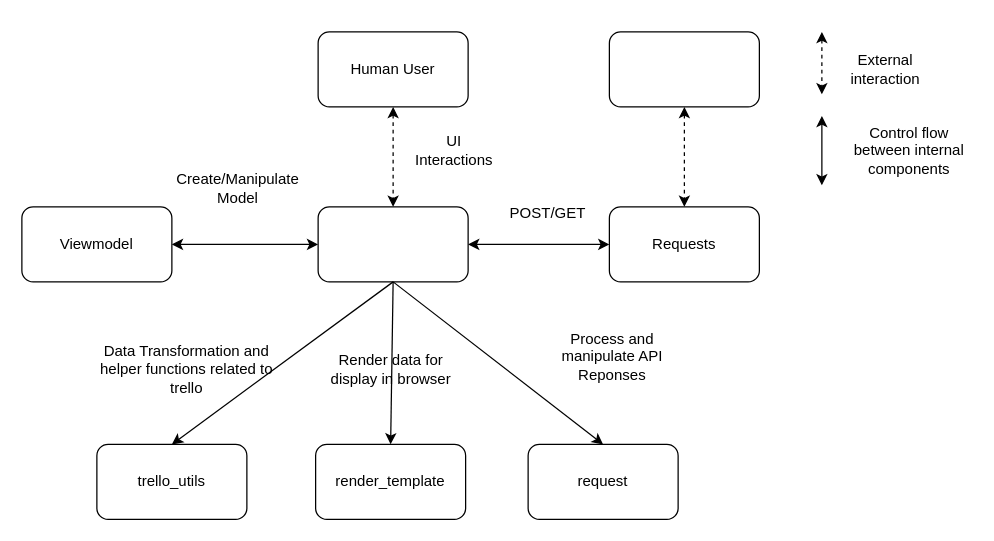
Some shapes in this 994 by 541 pixel diagram are drawn without their labels. The shapes that lost their labels are listed below. From the top down, each one's centre as x and y in pixels, then its label:
At (683,69): "Trello API".
At (392,244): "Main Application Class".
